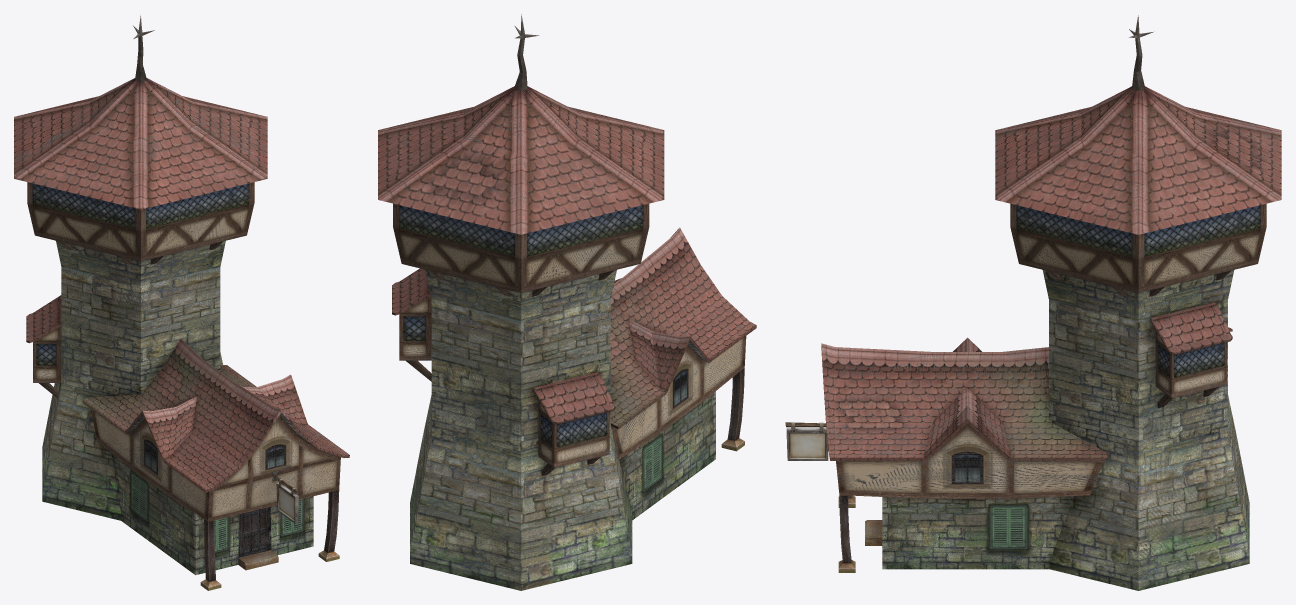
The picture shows the model from 3 angles, left to right: view 1: azimuth 30°, elevation 25°; view 2: azimuth 150°, elevation 25°; view 3: azimuth 270°, elevation 25°; orthographic projection. The views are drawn at different scales.
Parts seen in each view (by area): view 1: Old_Tower_ (×8), Sign01; view 2: Old_Tower_ (×9); view 3: Old_Tower_ (×7), Sign01.
Part boxes in pixels (x1,y1,x2,y2): Old_Tower_ (×8): [14, 15, 349, 590]; Sign01: [276, 482, 298, 523]; Old_Tower_ (×9): [378, 14, 756, 590]; Old_Tower_ (×7): [821, 86, 1281, 590]; Sign01: [786, 428, 828, 460].
Size of the model in its own units: 304 by 457 by 531.
Materials: 6 (4 with a texture image).
